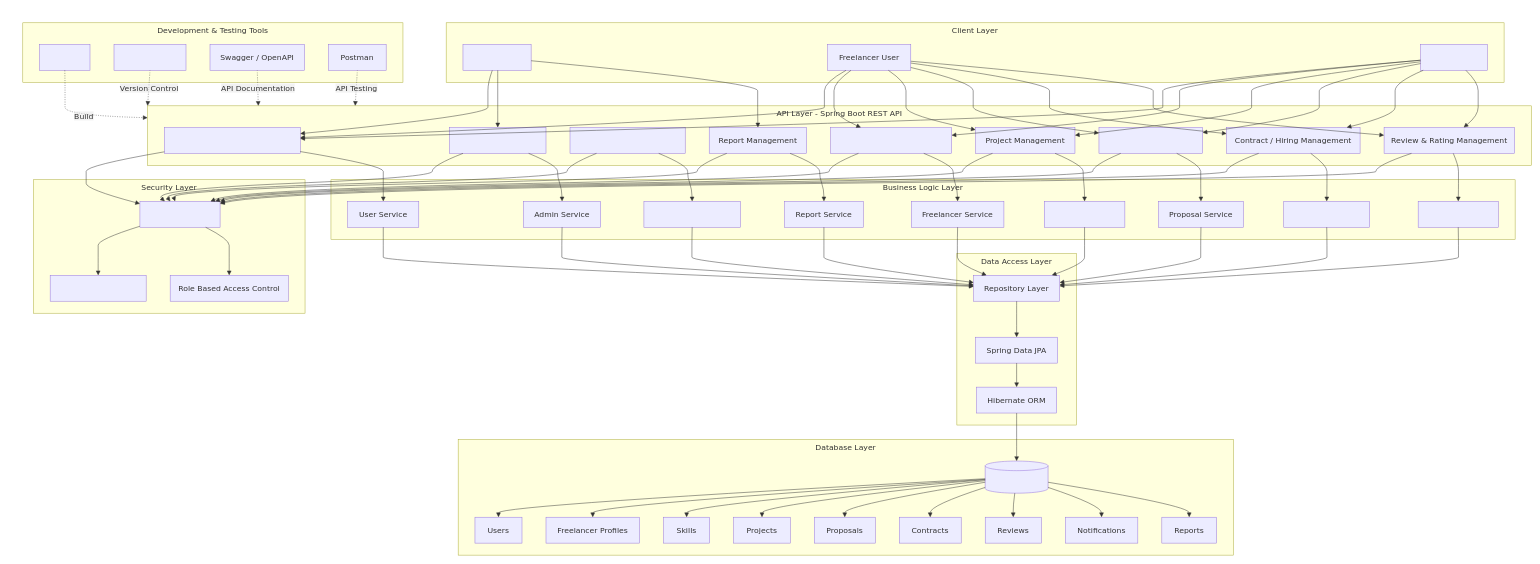
The diagram is 1540 pixels wide and 564 high, and some of its shapes have lost their labels. The centre of each missing label's shape, as x and y in pixels:
"Admin Management" goes at point (497, 140).
"Admin User" goes at point (496, 57).
"Authentication & Authorization" goes at point (232, 140).
"Client User" goes at point (1453, 57).
"Contract Service" goes at point (1326, 214).
"Git / GitHub" goes at point (150, 57).
"JWT Authentication" goes at point (98, 288).
"Maven" goes at point (64, 57).
"MySQL Database" goes at point (1016, 477).
"Notification Management" goes at point (627, 140).
"Notification Service" goes at point (691, 214).
"Project Service" goes at point (1084, 214).
"Proposal Management" goes at point (1150, 140).
"Review Service" goes at point (1458, 214).
"Spring Security" goes at point (179, 214).
"User / Profile Management" goes at point (891, 140).
